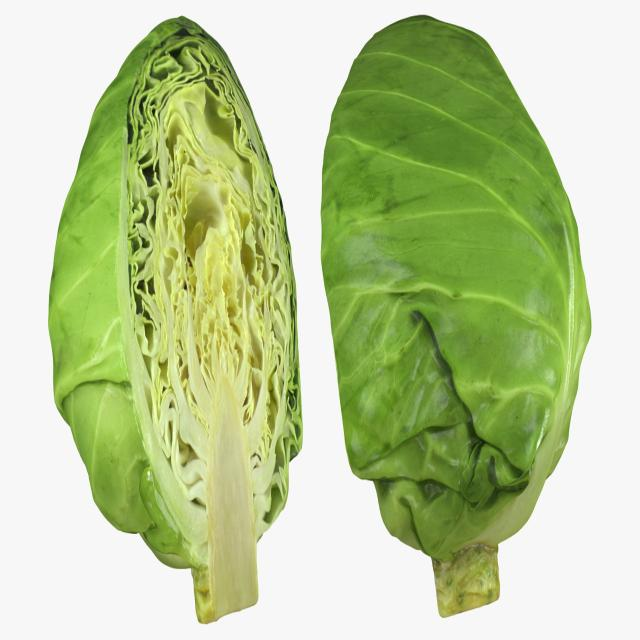haft-cabbage: (317, 12, 593, 620), (47, 10, 303, 628)
